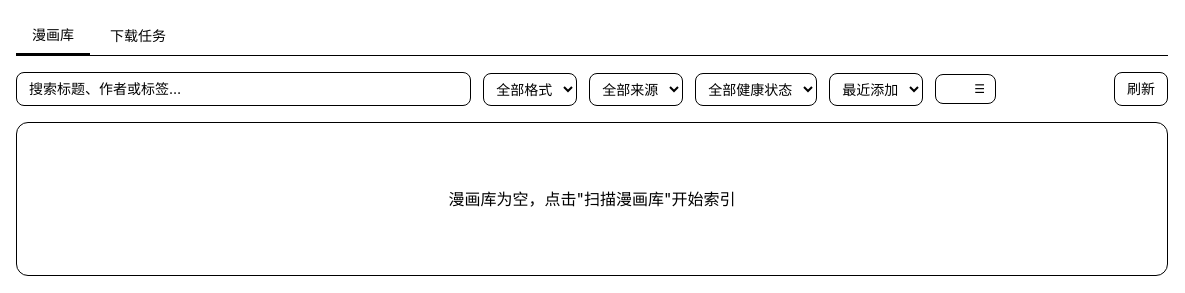
Test: DownloadPage › shows empty state when no tasks
# 切换到下载任务子页签
What coordinates should you click on to do the following:
click the button with test id "subtab-tasks"
I would click on:
 (138, 36)
Its box is [94, 18, 182, 54].
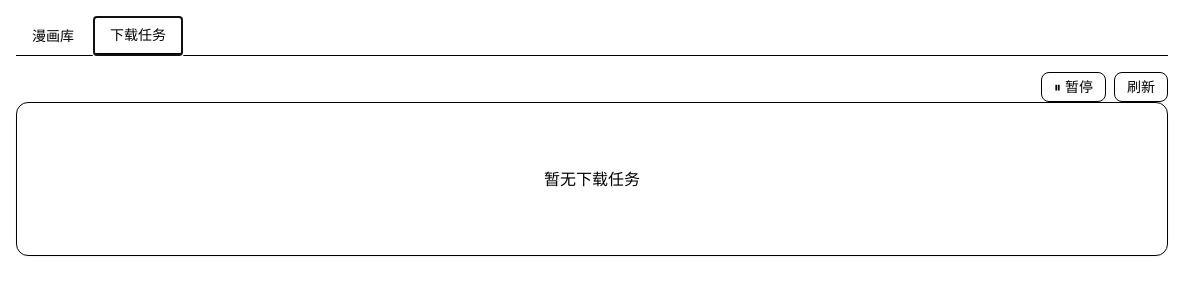
Now the text "暂无下载任务" is shown, box [16, 102, 1168, 256]
